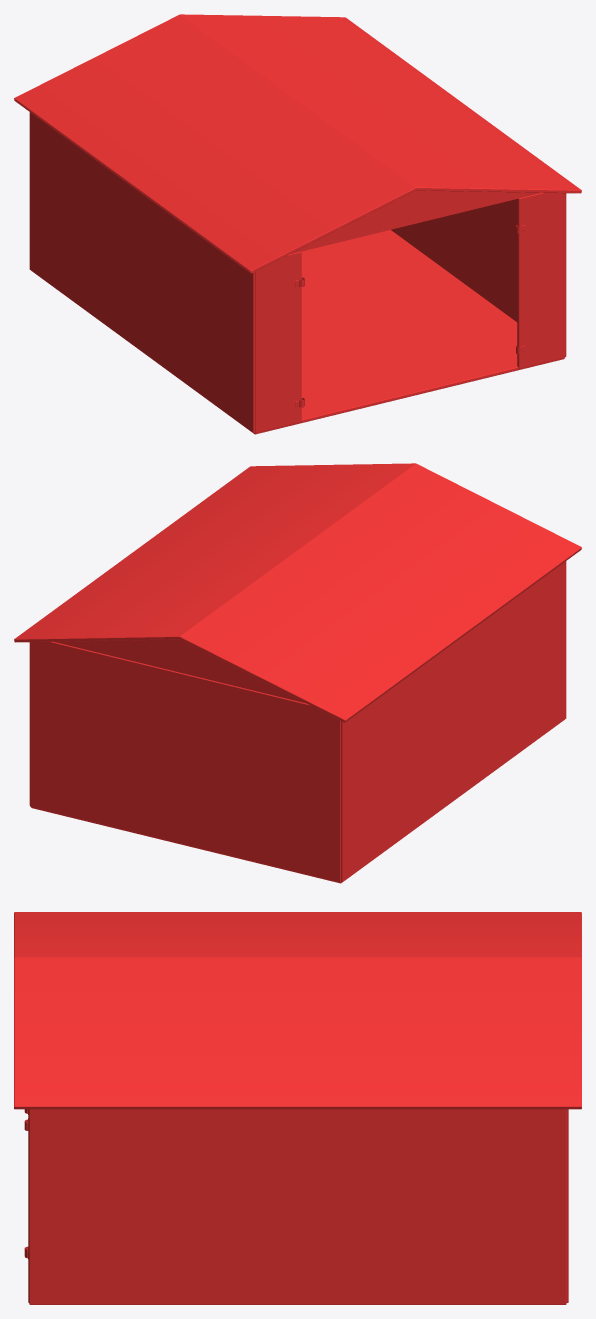
The model's file is Garage_01_001.fbx.
3 renders of one model, top to bottom at view 1: azimuth 30°, elevation 25°; view 2: azimuth 150°, elevation 25°; view 3: azimuth 270°, elevation 25°, orthographic. The views are drawn at different scales.
Visible parts, largest first — view 1: Garage; view 2: Garage; view 3: Garage.
Part boxes in pixels (box(x1,y1,x2,y2)): Garage: box(14, 14, 581, 434); Garage: box(14, 463, 581, 883); Garage: box(14, 912, 581, 1304).
Bounding box in the file's own units: 428 × 264 × 529.
